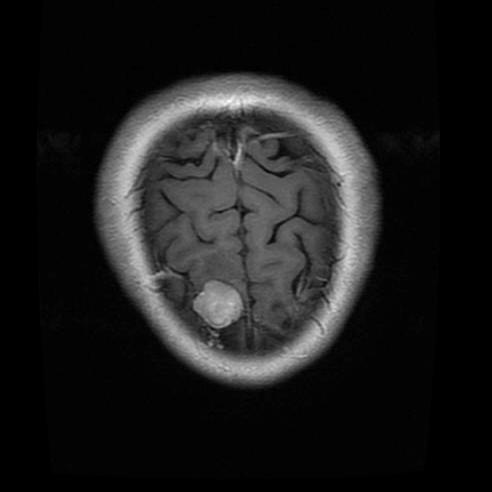Tumour-Meningioma: (185, 269, 260, 350)
